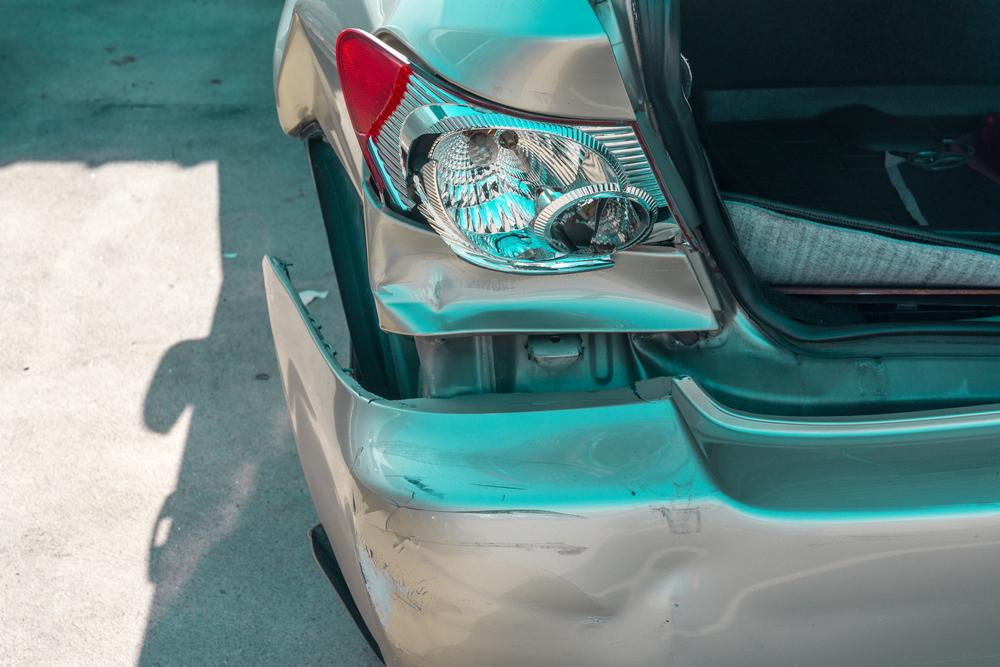crack: (629, 382, 652, 405)
dent: (378, 226, 706, 326), (567, 528, 736, 667)
lamp broken: (333, 27, 695, 276)
scratch: (344, 463, 588, 630)
